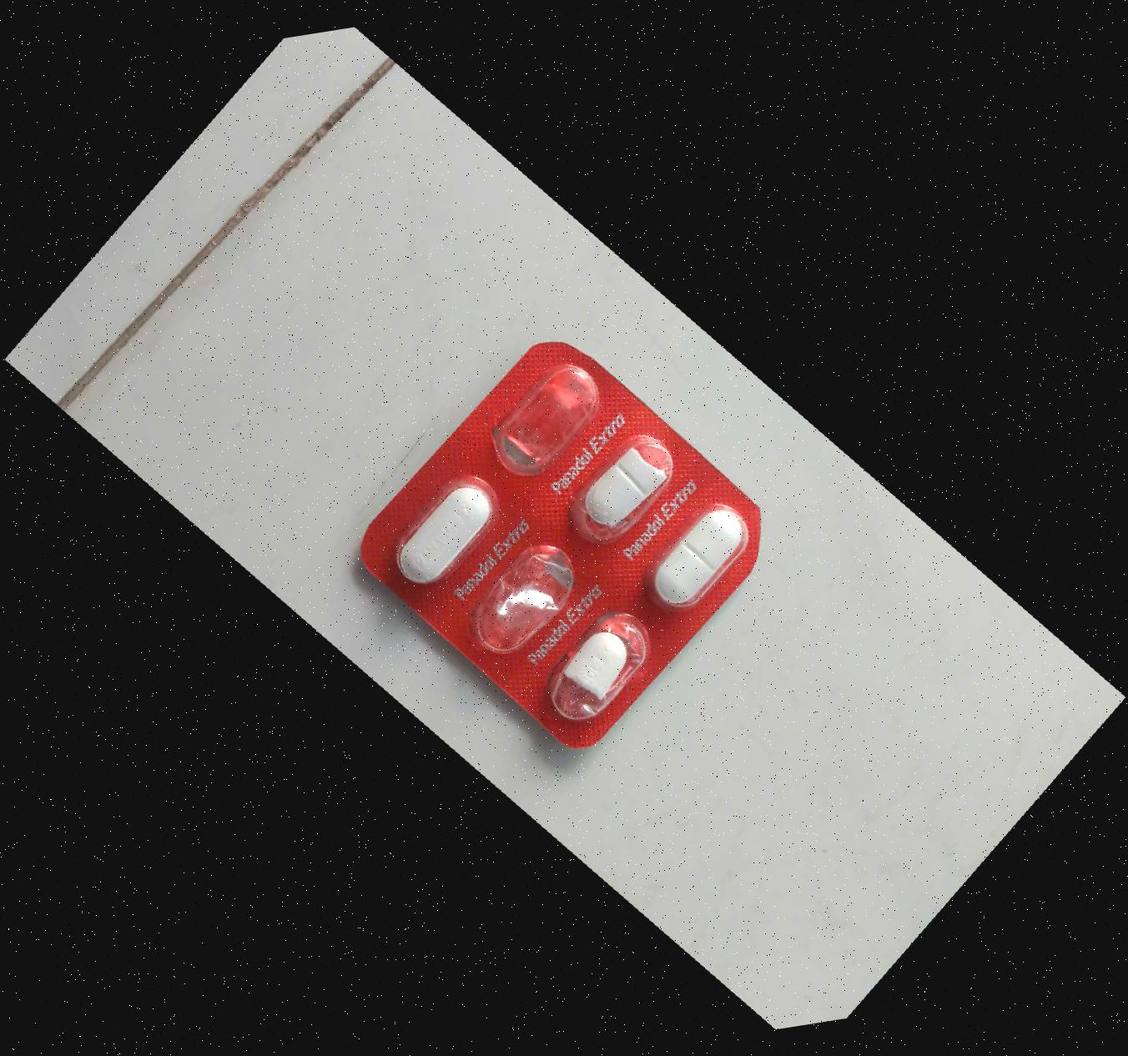Empty: (475, 345, 618, 491), (457, 527, 600, 673)
Full: (628, 485, 771, 631), (368, 458, 511, 604)
Partial: (524, 602, 668, 748), (546, 416, 689, 562)
